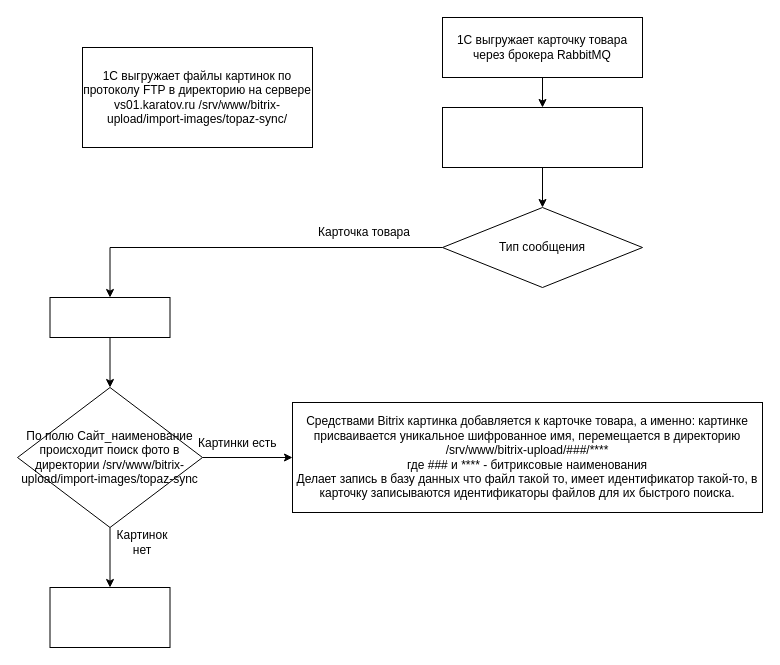
This 780x665 diagram has some shape labels left out. Each missing label, with the centre of its shape:
"Возвращает ошибку в лог" belongs at [109,617].
"Разбор сообщения" belongs at [109,317].
"Скрипт на сайте читает сообщение RabbitMQ" belongs at [542,137].
